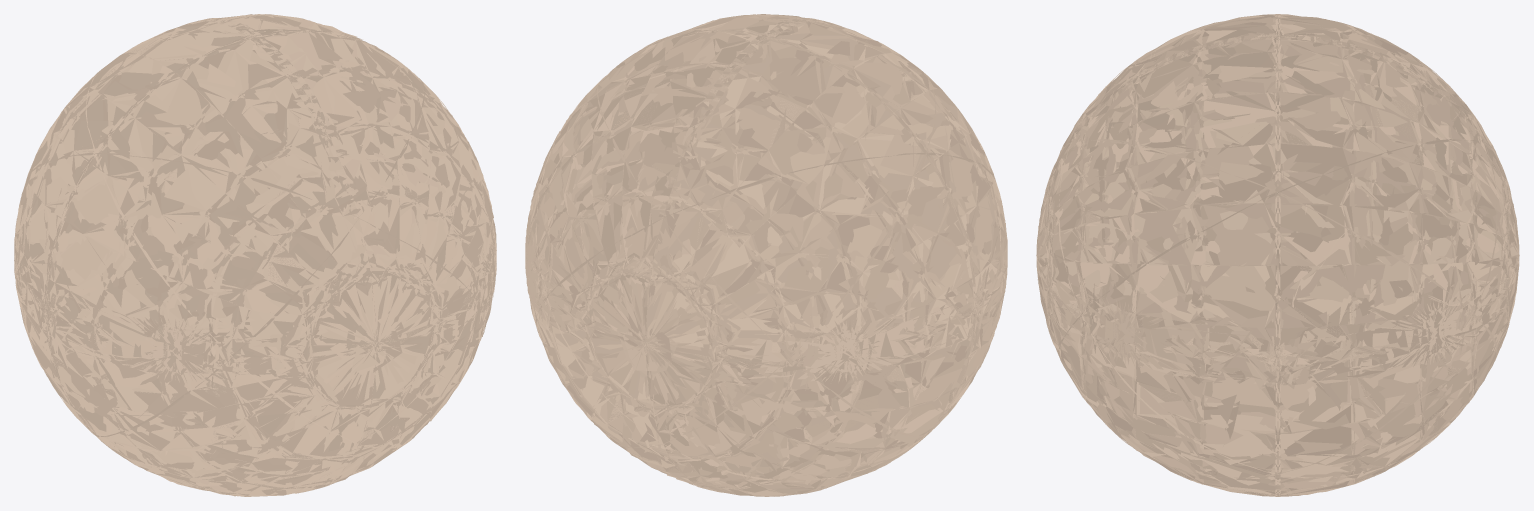
Rendered from mudmat.glb.
The picture shows the model from 3 angles, left to right: view 1: azimuth 30°, elevation 25°; view 2: azimuth 150°, elevation 25°; view 3: azimuth 270°, elevation 25°; orthographic projection.
Visible parts, largest first — view 1: mudmat; view 2: mudmat; view 3: mudmat.
Part boxes in pixels (left/top/right/bottom): mudmat: left=14, top=14, right=496, bottom=496; mudmat: left=525, top=14, right=1007, bottom=496; mudmat: left=1036, top=14, right=1519, bottom=496.
Bounding box in the file's own units: 2 × 2 × 2.
